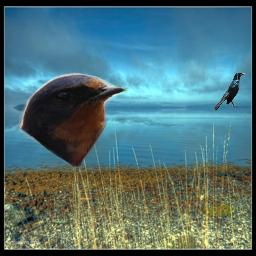Crow: (213, 72, 246, 111)
Swallow: (19, 72, 129, 168)
